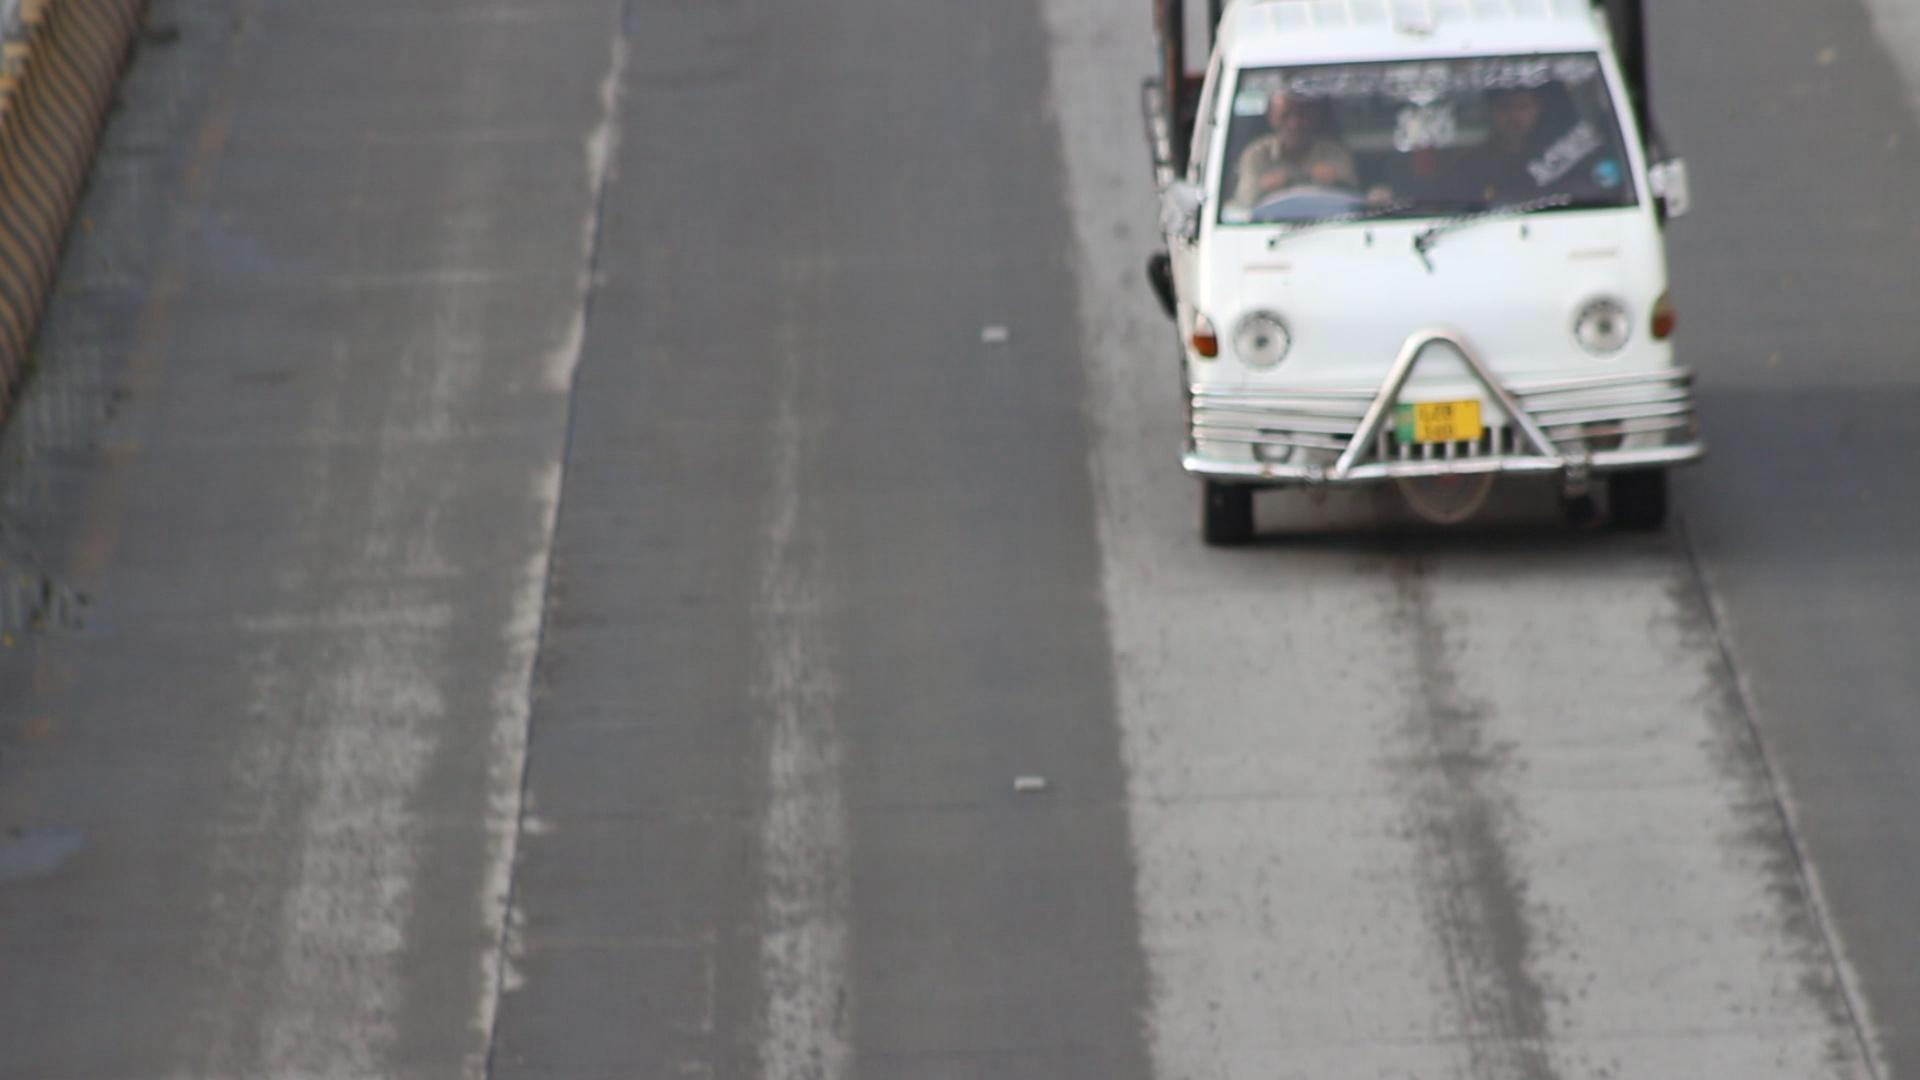windshield: (1211, 40, 1660, 244)
